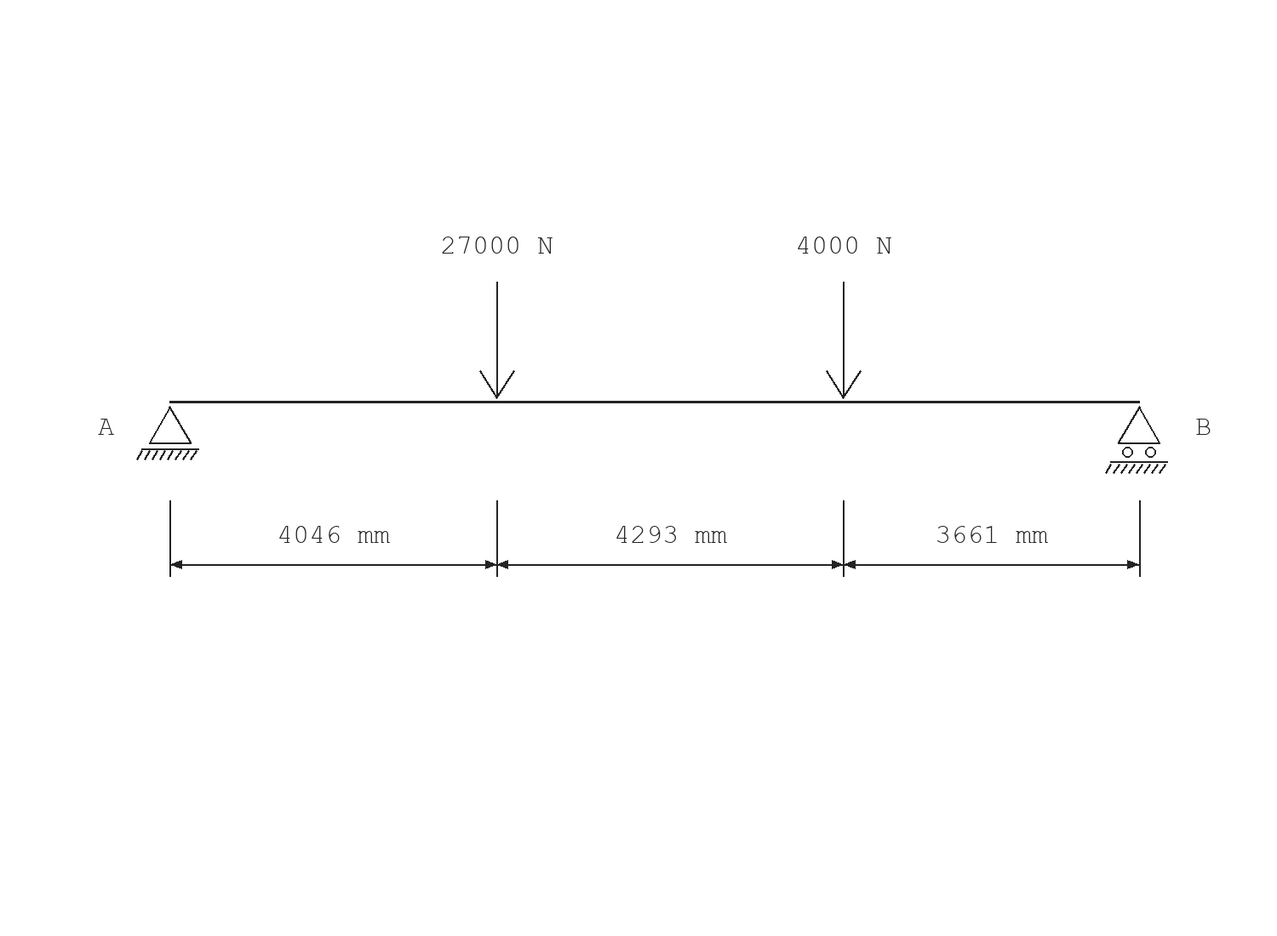pin_support: (136, 406, 199, 460)
point_load: (479, 282, 515, 399), (826, 282, 862, 399)
roller_support: (1105, 406, 1168, 474)
